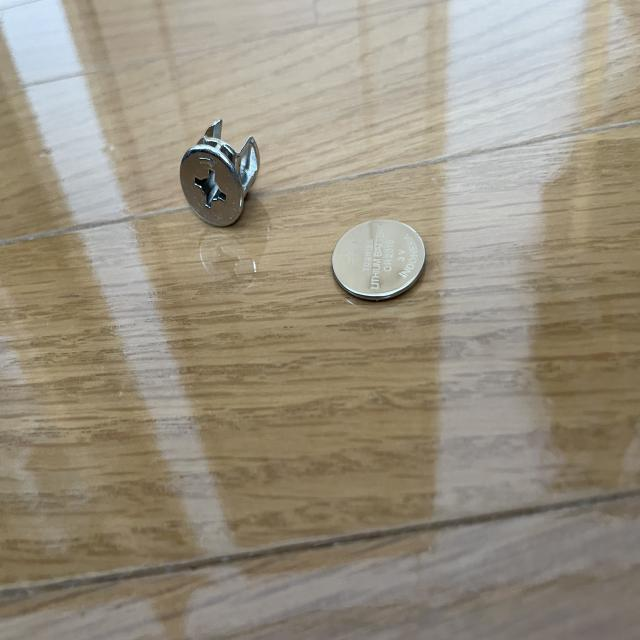COIN: (331, 218, 427, 302)
